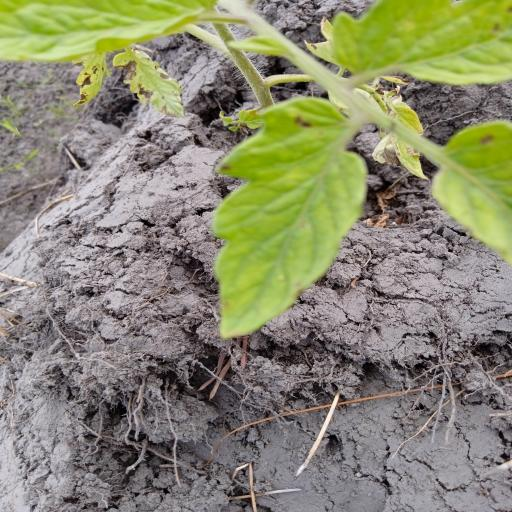Tomato_Brown_Spots: (207, 99, 371, 339), (306, 0, 512, 85)
